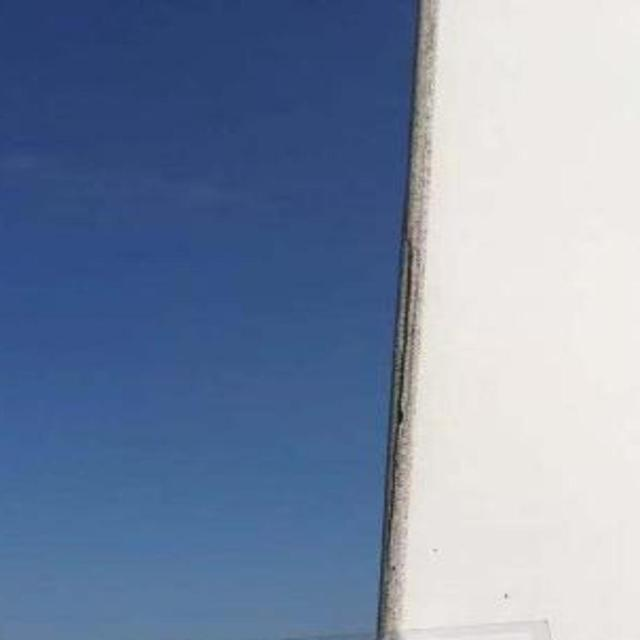crack: (384, 254, 413, 553)
